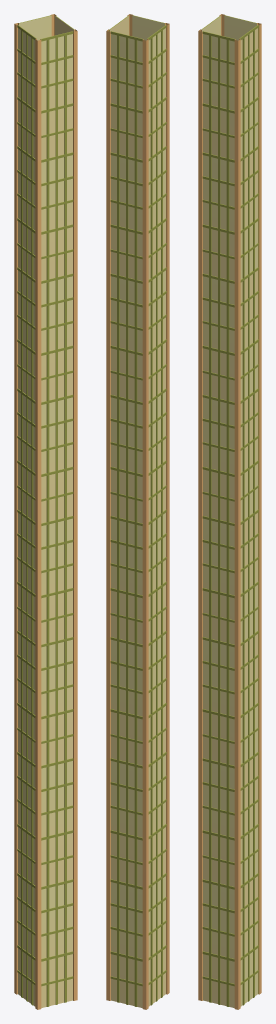
The model's file is than_bigben.fbx.
3 renders of one model, left to right at view 1: azimuth 30°, elevation 25°; view 2: azimuth 150°, elevation 25°; view 3: azimuth 330°, elevation 25°, orthographic.
Parts seen in each view (by area): view 1: than_Bigben; view 2: than_Bigben; view 3: than_Bigben.
Boxes of the visible parts, x1,y1,x2,y2 form: than_Bigben: [14, 14, 77, 1009]; than_Bigben: [106, 14, 169, 1009]; than_Bigben: [198, 14, 261, 1009].
Bounding box in the file's own units: 372 × 8614 × 372.
